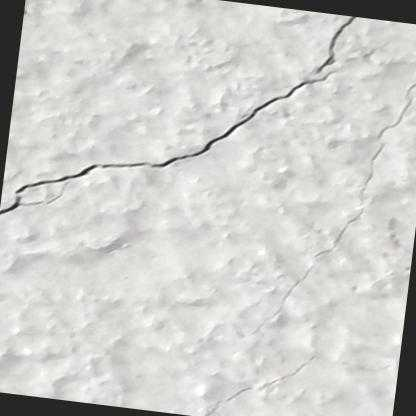crack: (0, 69, 338, 215), (312, 16, 356, 73)
